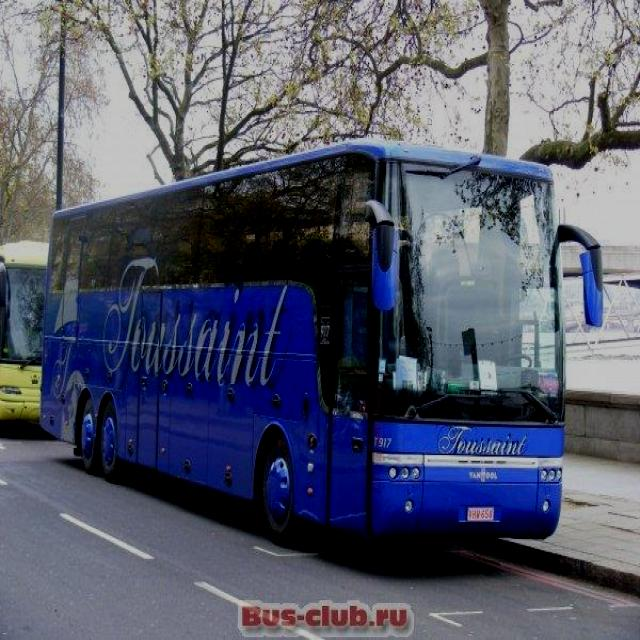bus: (33, 132, 615, 566)
